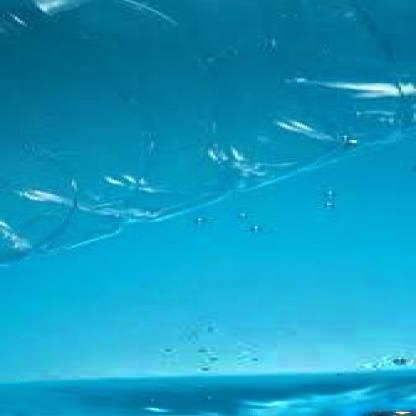pbottle: (2, 1, 416, 274)
